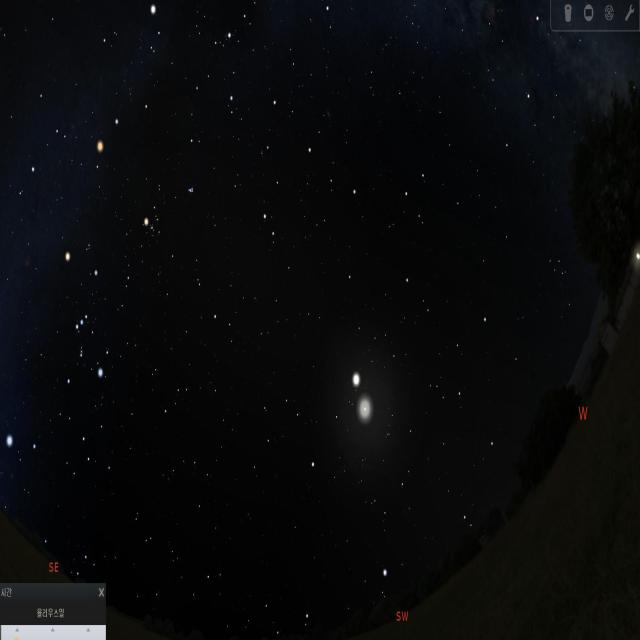moon: (348, 381, 382, 435)
orion: (59, 236, 114, 400)
pleiades: (182, 181, 200, 207)
taurus: (134, 167, 200, 278)
